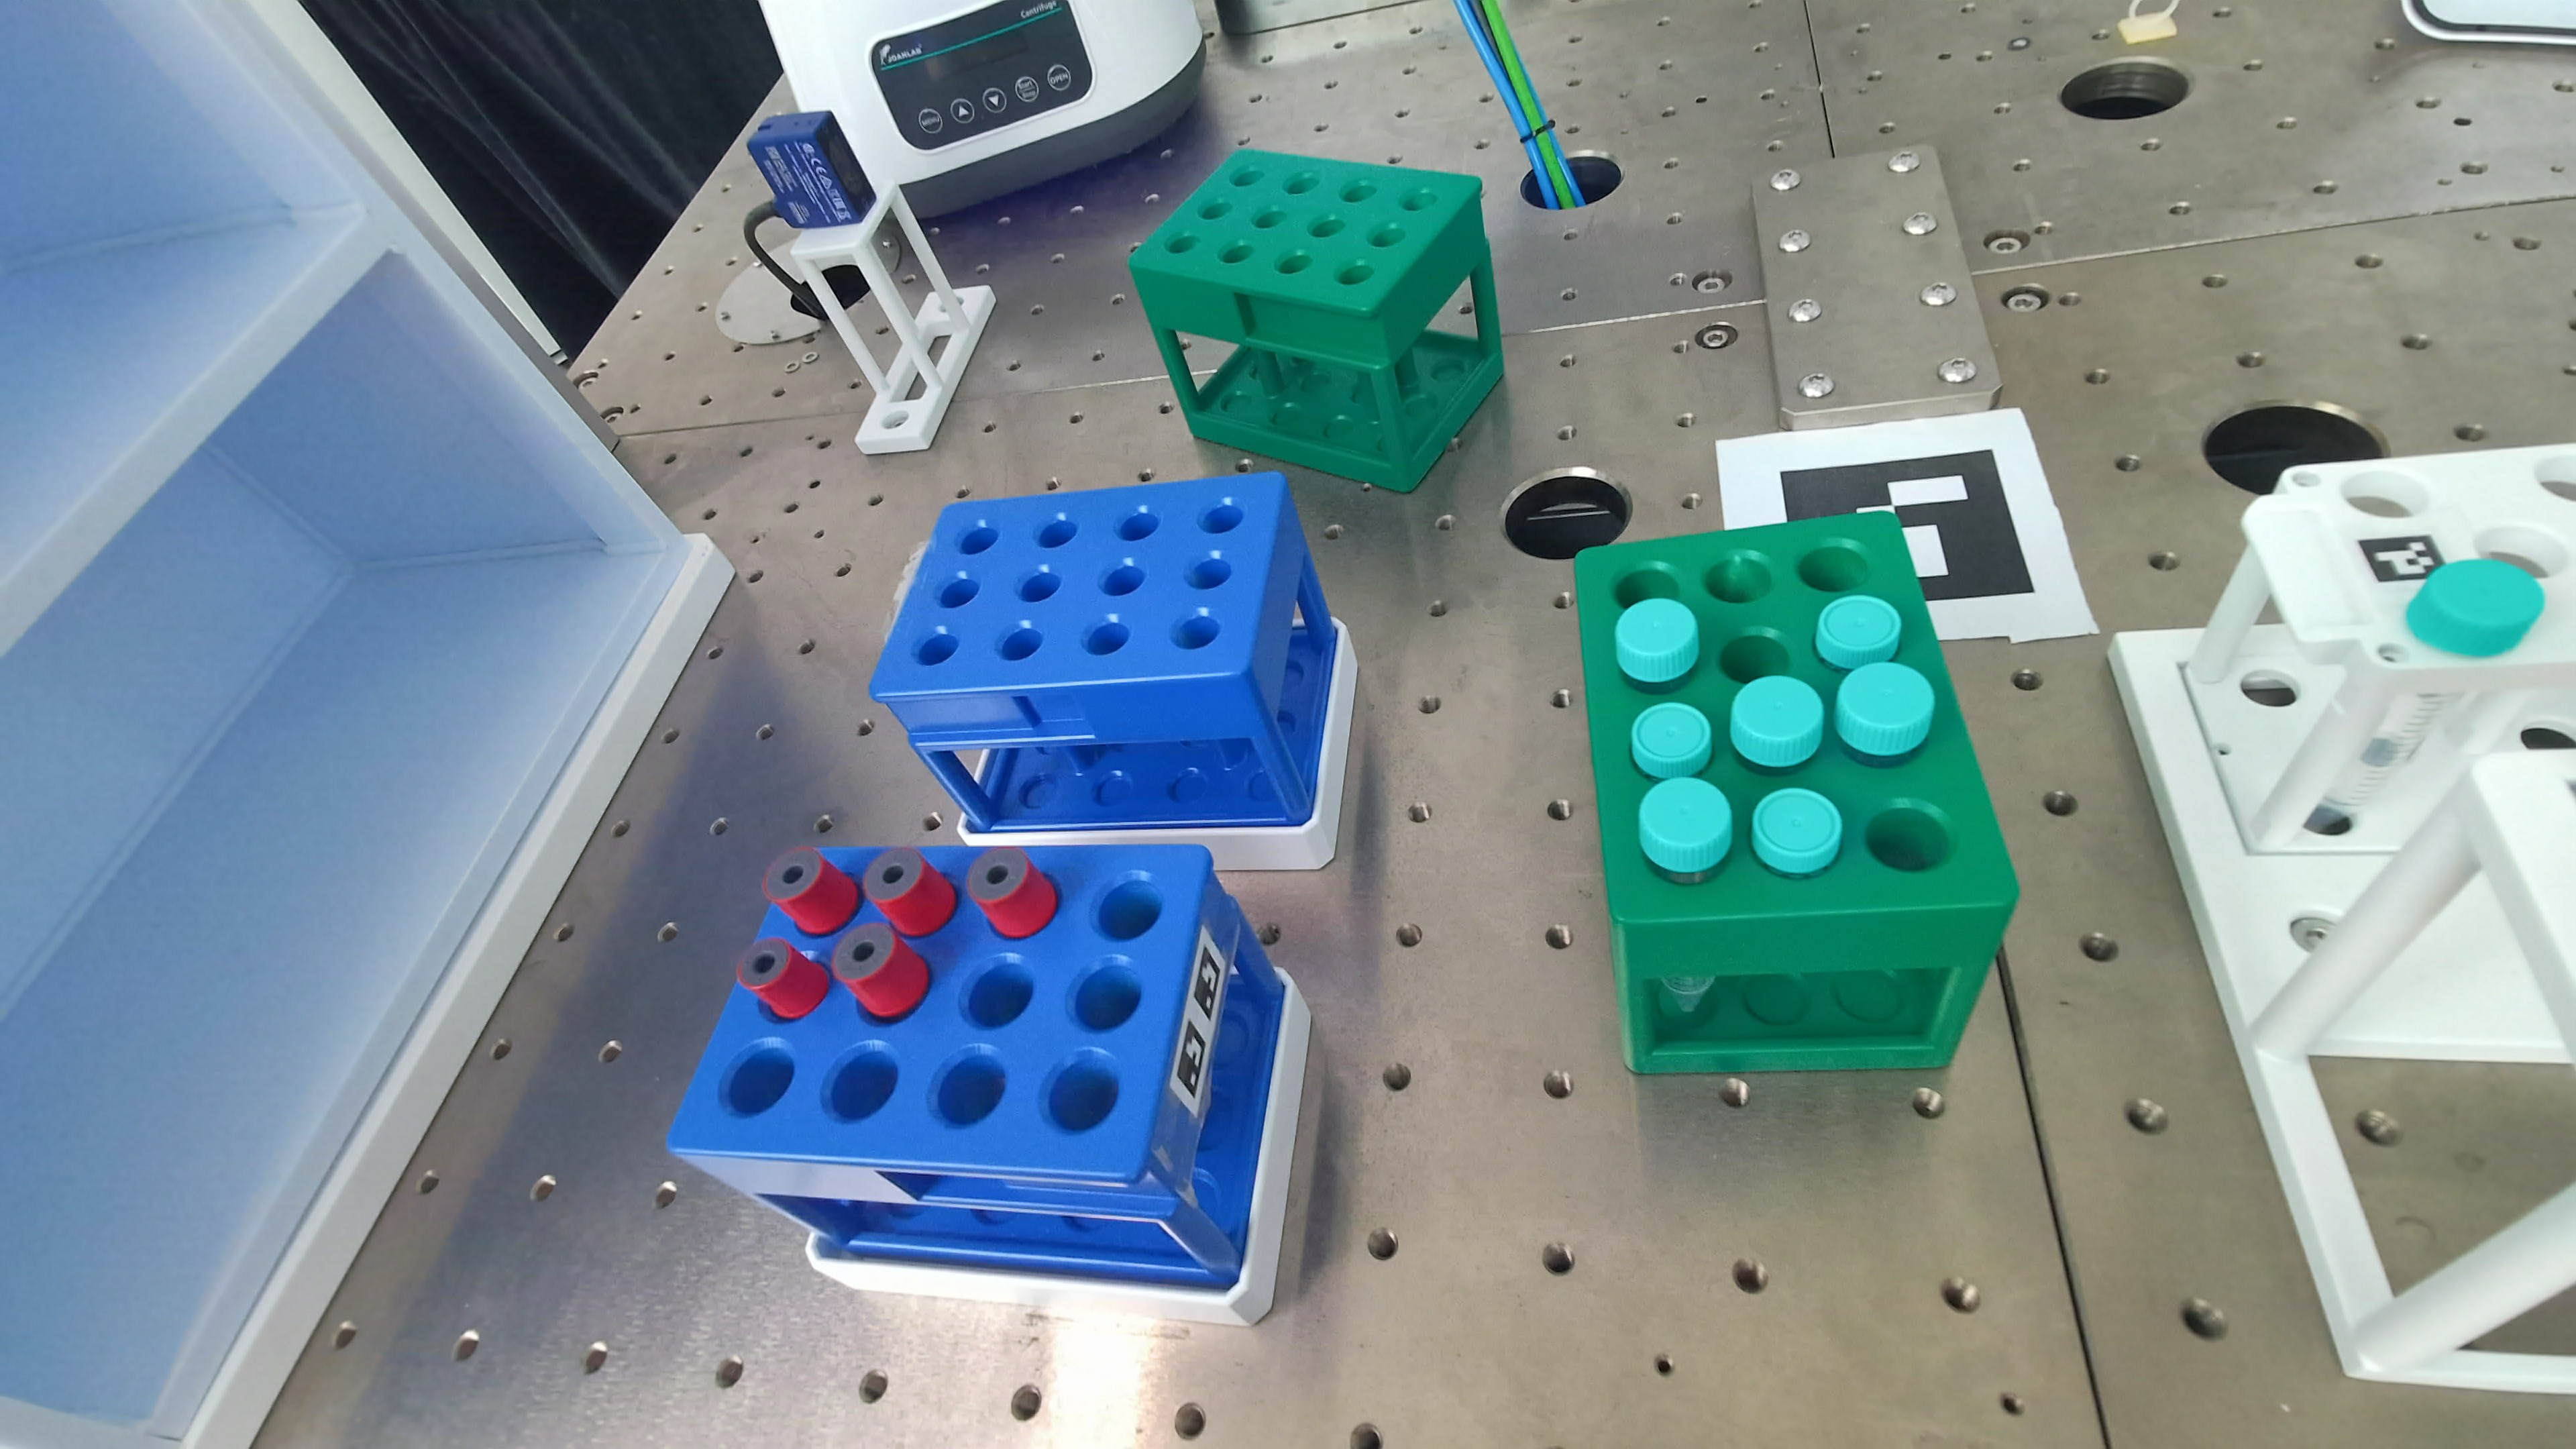10ML_centrifuge_tube: (2328, 694, 2459, 809), (2406, 557, 2546, 658), (1835, 662, 1936, 761), (1638, 777, 1732, 879), (1729, 674, 1824, 770), (1615, 598, 1698, 683)
10ML_sorting_tube_rack: (667, 846, 1290, 1286), (870, 472, 1339, 830)
5ML_centrifuge_tube: (1752, 789, 1842, 876), (1629, 702, 1713, 780), (1815, 594, 1900, 671)
5ML_sorting_tube_rack: (1576, 511, 2015, 1072), (1131, 150, 1504, 492)
blood_tube: (832, 924, 931, 1019), (763, 849, 860, 936), (966, 847, 1058, 938), (863, 847, 955, 936), (736, 938, 828, 1019)
centrifuge_close: (761, 0, 1205, 216)
dispensing_tube_rack: (2111, 444, 2576, 1392)
refrigerator_close: (2403, 0, 2576, 46)
sorting_tube_rack_base: (711, 970, 1311, 1325), (959, 623, 1357, 870)
tube_rack_storage_cabinet: (0, 0, 725, 1444)
